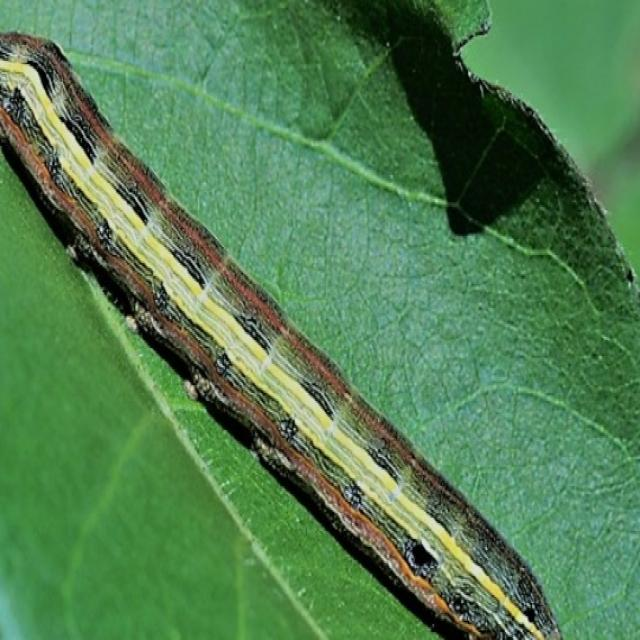armyworm: (0, 22, 575, 638)
